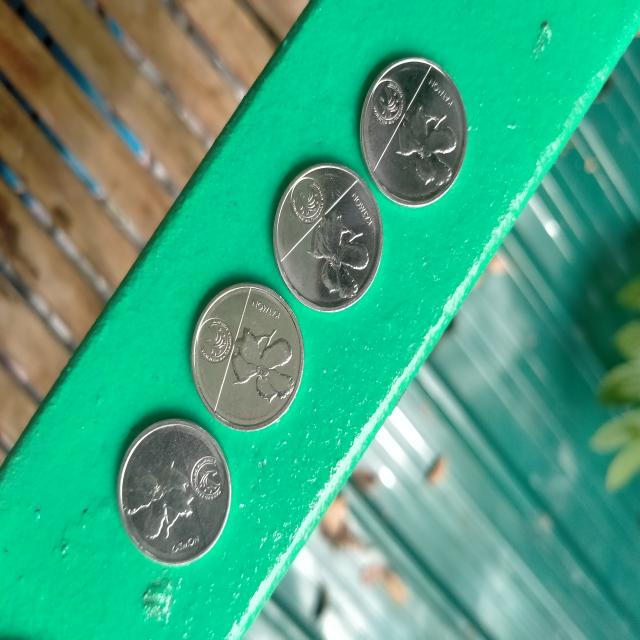25Cent_New_Back: (286, 172, 374, 300), (194, 306, 293, 405)
